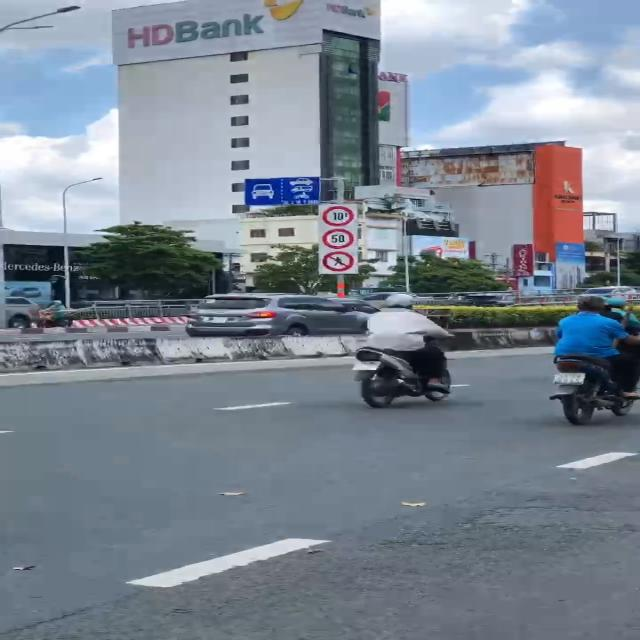Bien bao cam nguoi di bo: (318, 251, 357, 274)
Bien bao toc do toi da cho phep: (320, 227, 355, 251)
